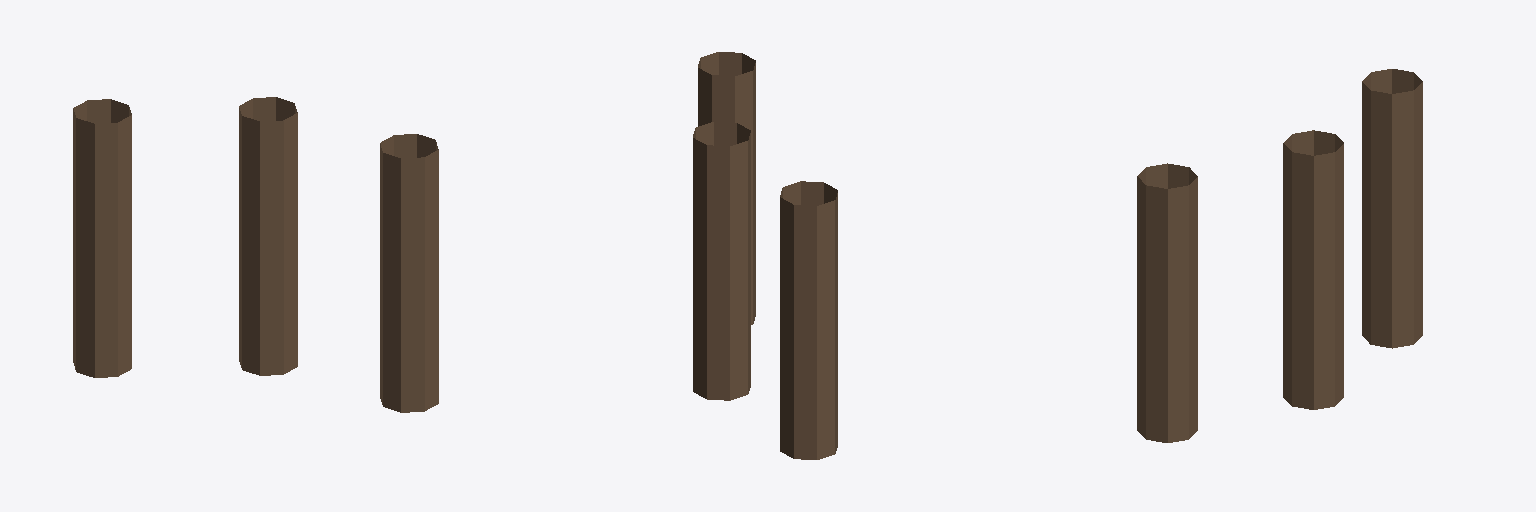
File: Beach_Prop_Docks_Corner_Supports.obj
The picture shows the model from 3 angles: view 1: azimuth 30°, elevation 25°; view 2: azimuth 150°, elevation 25°; view 3: azimuth 270°, elevation 25°; orthographic projection.
Parts seen in each view (by area): view 1: object1, object2, object3; view 2: object3, object2, object1; view 3: object3, object1, object2.
Part boxes in pixels (bbox=[...]): object1: bbox=[380, 134, 438, 412]; object2: bbox=[73, 99, 131, 377]; object3: bbox=[239, 97, 297, 375]; object3: bbox=[693, 122, 750, 400]; object2: bbox=[780, 181, 837, 459]; object1: bbox=[698, 52, 755, 324]; object3: bbox=[1283, 130, 1343, 409]; object1: bbox=[1137, 163, 1197, 442]; object2: bbox=[1362, 69, 1422, 348].
Size of the model in its own units: 1.02 by 1 by 1.02.